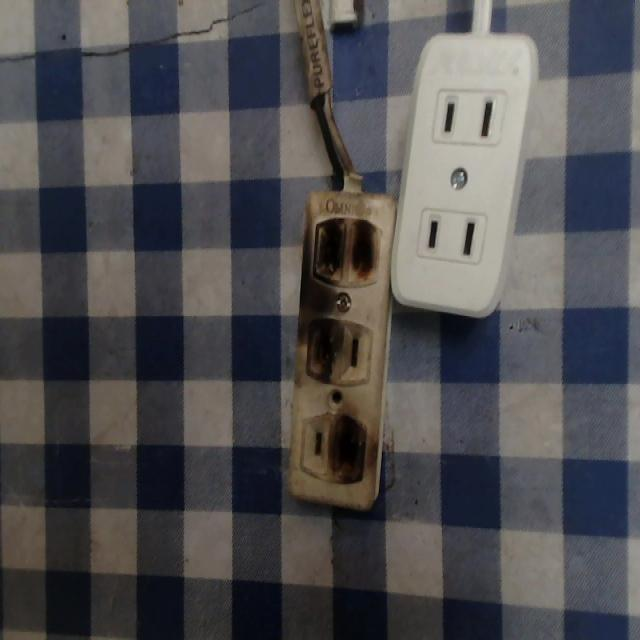-: (299, 204, 390, 289), (328, 410, 376, 494), (300, 310, 344, 386)
